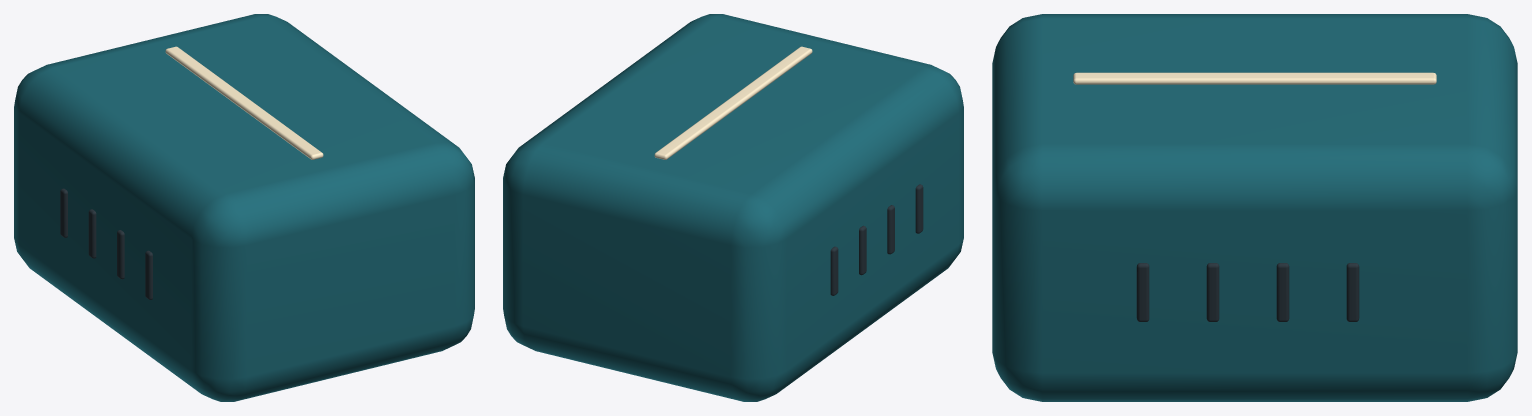
The model's file is tatu_hood_box_mobile.glb.
3 renders of one model, left to right at view 1: azimuth 30°, elevation 25°; view 2: azimuth 150°, elevation 25°; view 3: azimuth 270°, elevation 25°, orthographic. The views are drawn at different scales.
Visible parts, largest first — view 1: Hood; view 2: Hood; view 3: Hood.
Part boxes in pixels (x1,y1,x2,y2): Hood: (14, 14, 474, 401); Hood: (503, 14, 963, 401); Hood: (992, 14, 1517, 401).
Size of the model in its own units: 1.46 by 1.02 by 1.88.
